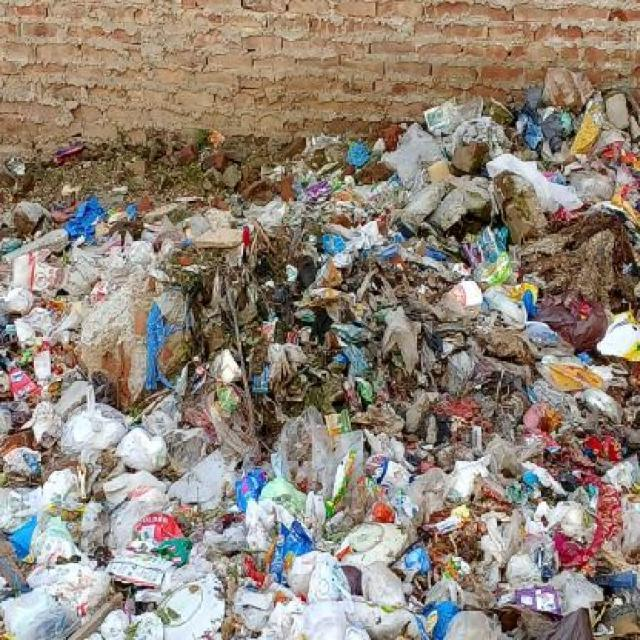garbage: (3, 69, 639, 639)
